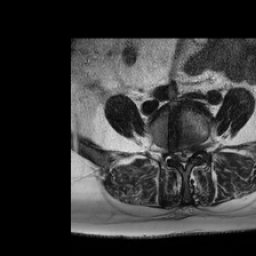CCS_normal: (179, 143, 186, 174)
LFS_severe_stenosis: (193, 140, 201, 161)
LLS_normal: (186, 143, 193, 164)
RFS_severe_stenosis: (164, 140, 172, 159)
RLS_stenosis: (172, 143, 179, 163)
